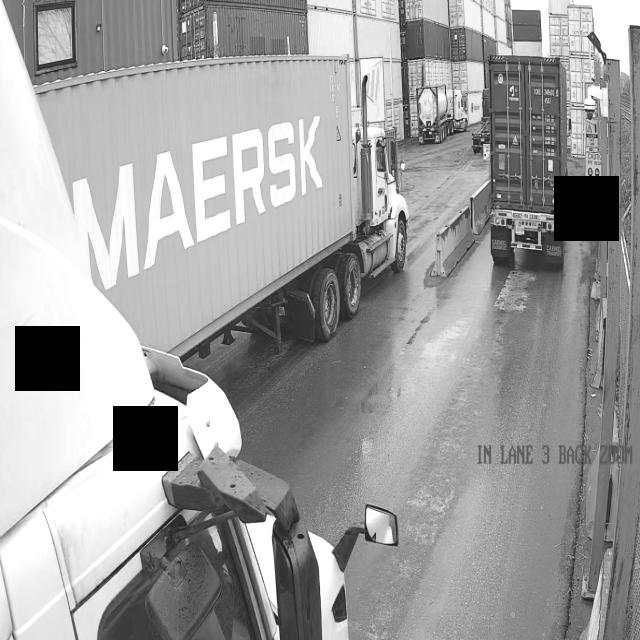container_company_logo: (73, 163, 140, 290), (144, 152, 194, 269), (192, 137, 231, 242), (231, 129, 265, 223), (267, 122, 297, 207), (299, 118, 322, 193)
truck_cabin: (0, 0, 398, 640)
truck_with_container: (37, 55, 410, 355), (487, 55, 568, 267)
